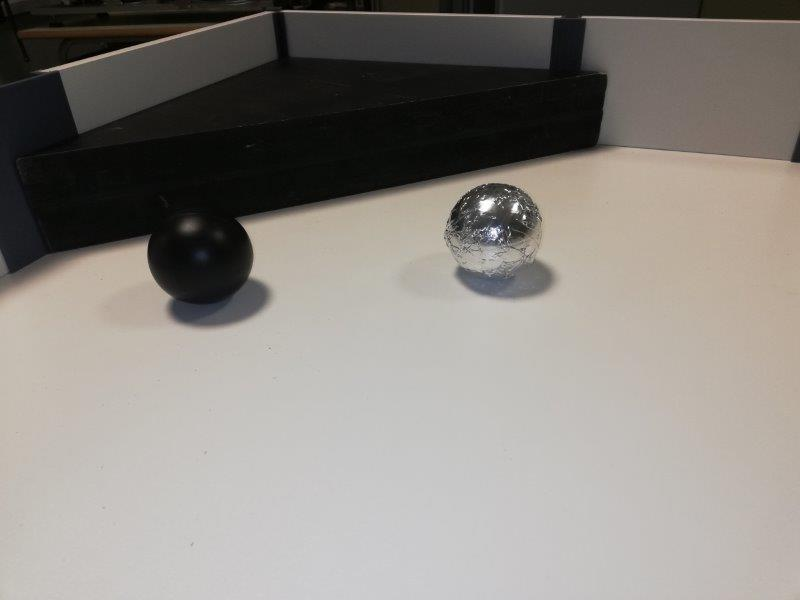bianca: (443, 179, 544, 280)
nera: (147, 203, 253, 304)
